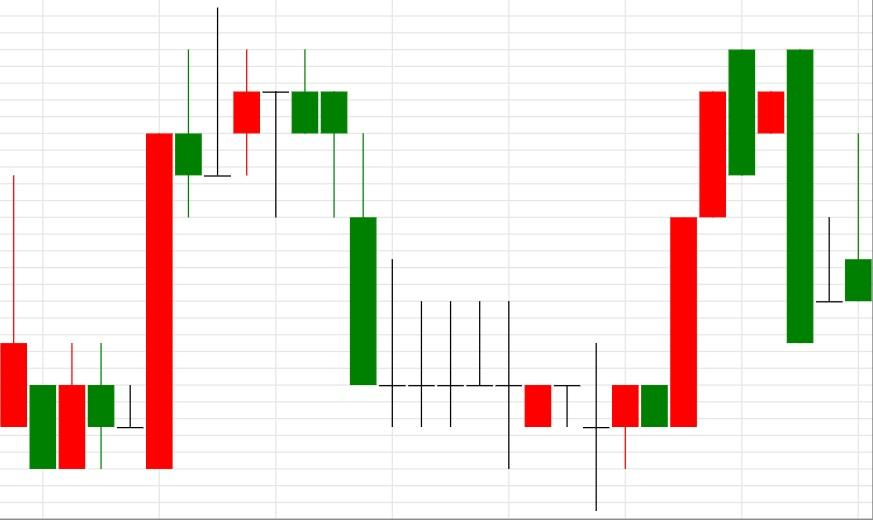bearish_engulfing_fall: (582, 48, 814, 512)
bullish_engulfing_rise: (291, 49, 699, 512)
